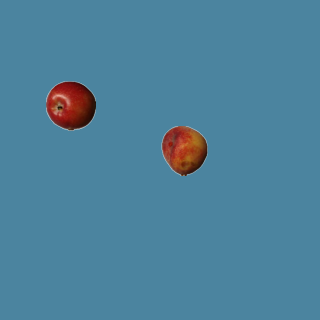Apple Braeburn: (45, 80, 95, 130)
Peach: (159, 125, 209, 175)
